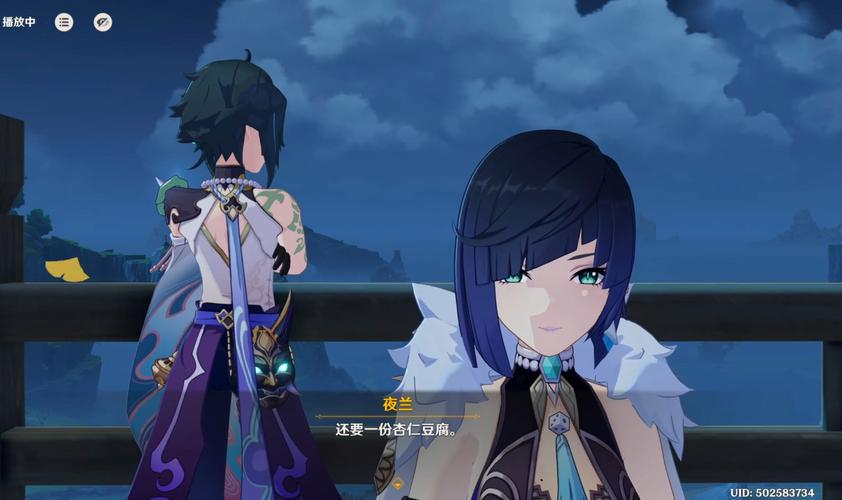夜兰: (401, 131, 686, 499)
